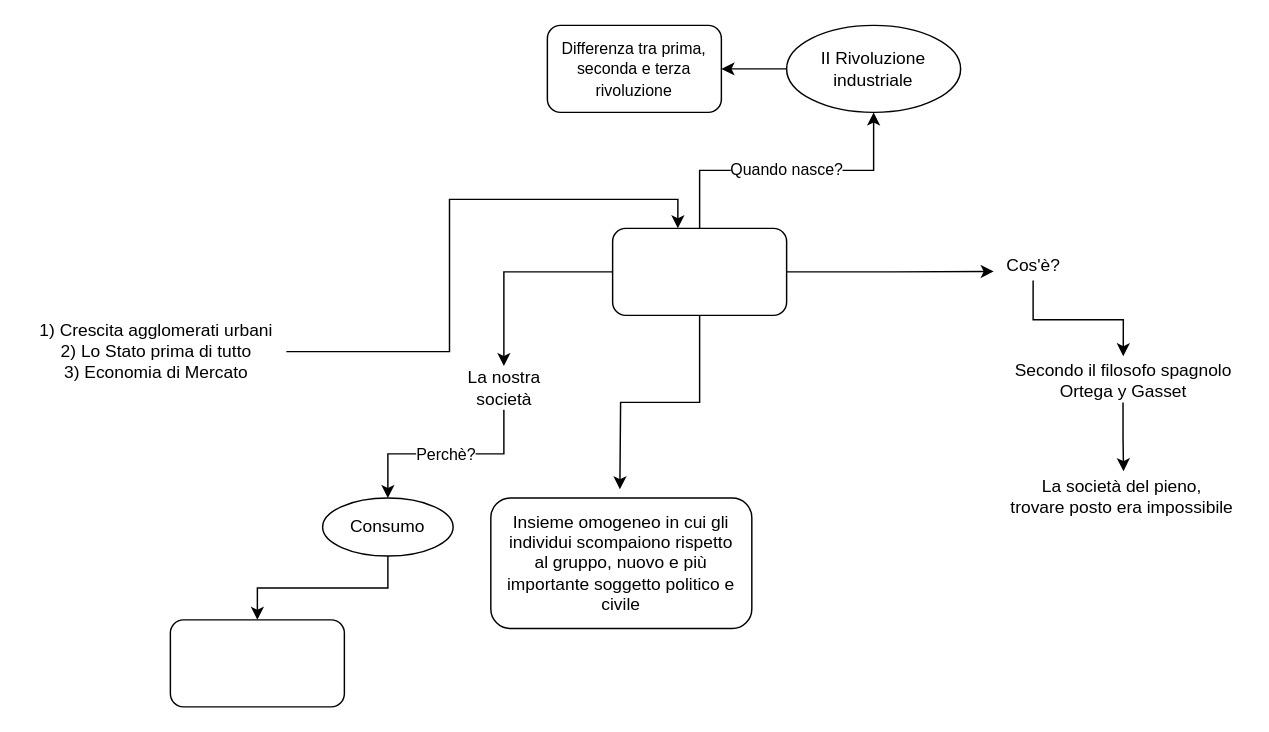
Image size: 1269x732. Some labels were removed from this diagram. The box of each missing label's shape, as (x1, y1, x2, y2) in pixels:
Consumismo, società dello scarto: (169, 618, 344, 707)
La società di massa: (611, 227, 787, 315)
